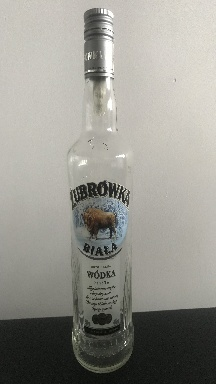butelka: (65, 5, 135, 375)
